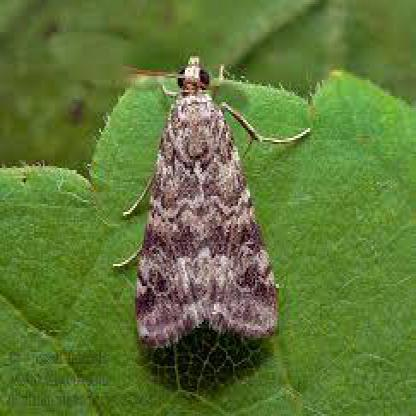Hellula undalis: (109, 46, 323, 354)
